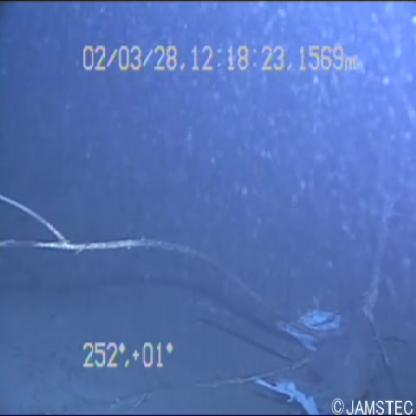Rác: (249, 360, 352, 416)
